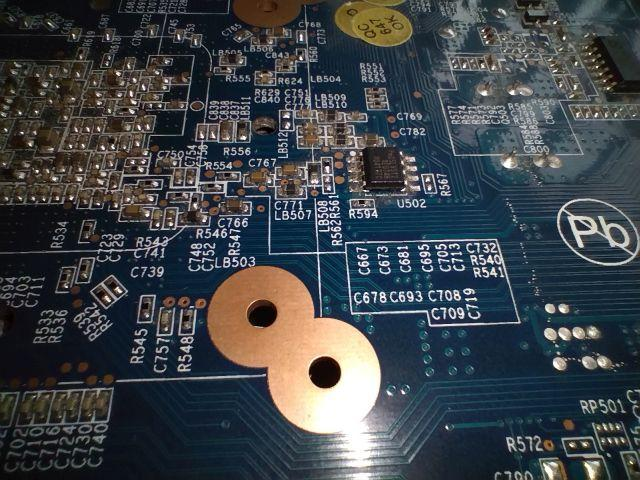capacitor: (90, 383, 117, 427)
resistor: (550, 423, 607, 460), (171, 199, 211, 235), (101, 264, 131, 303), (176, 301, 206, 335), (134, 290, 158, 323)
